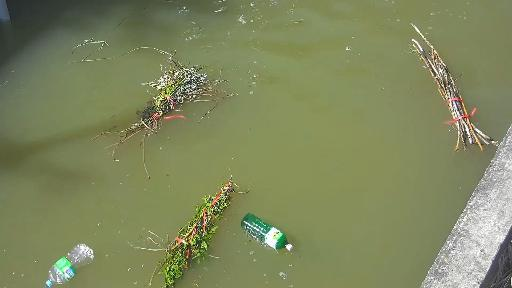plastic: (38, 239, 101, 288), (239, 211, 298, 255)
twig: (71, 35, 234, 182), (127, 182, 268, 287), (399, 20, 506, 157)
